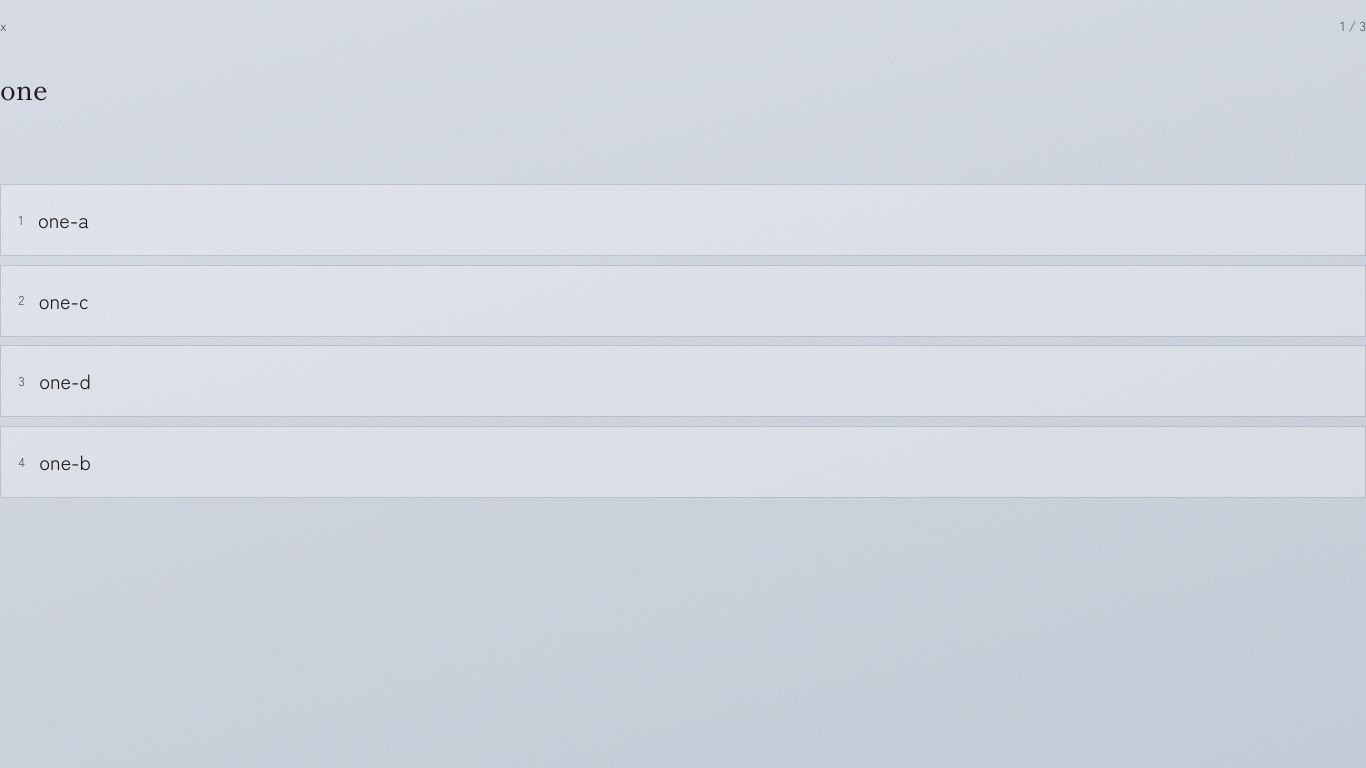
Scenario: QuizSession › marks the picked choice right or wrong and locks the rest
Click the button with class "choice" showing "4 one-b".
click(65, 462)  # box [0,426,1365,498]
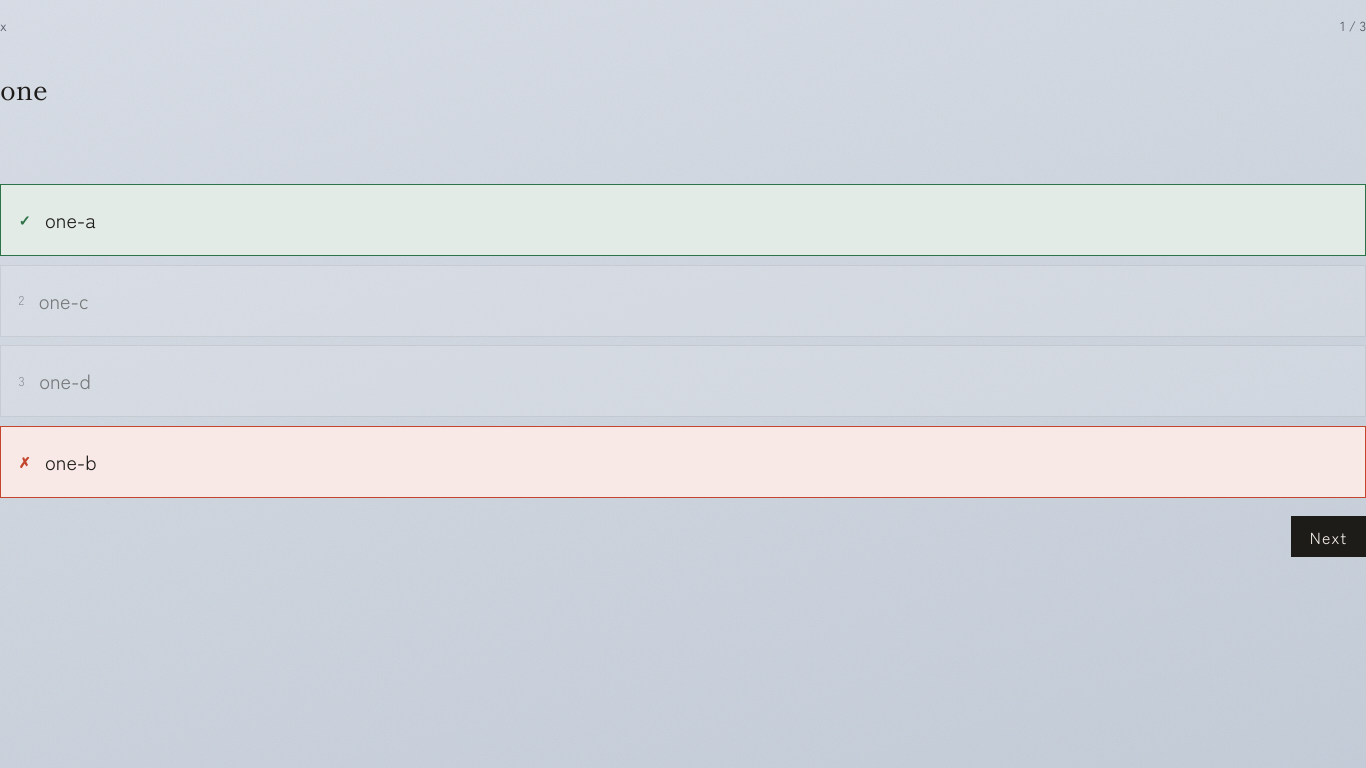
Check: the button with class "is-correct" shows "one-a", box [0,184,1365,256]
Check: the text with class "num" reads "✗", box [19,452,31,472]
Check: the text with class "num" reads "✓", box [19,209,31,230]
